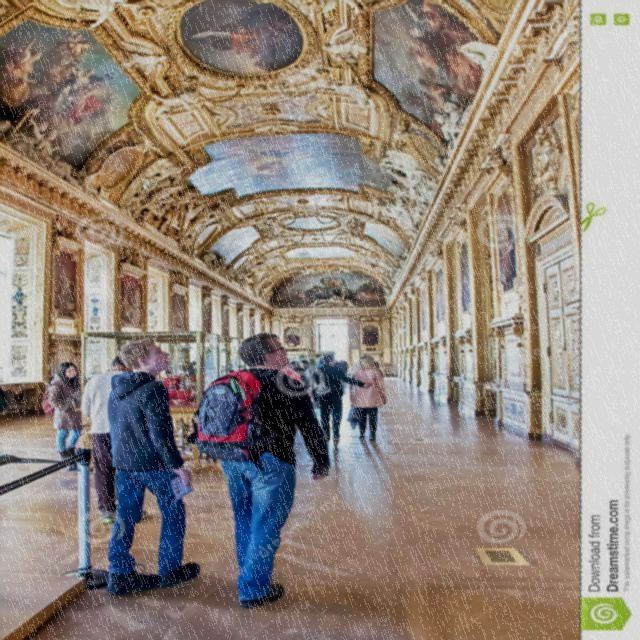pessoa: (184, 331, 333, 608), (104, 336, 205, 596), (80, 356, 132, 525), (310, 352, 373, 440), (46, 362, 84, 462), (347, 354, 389, 442), (286, 355, 352, 410), (112, 274, 148, 330), (160, 352, 208, 390), (172, 292, 198, 332), (360, 326, 384, 348), (278, 326, 304, 346), (326, 277, 351, 294), (368, 358, 386, 376)
